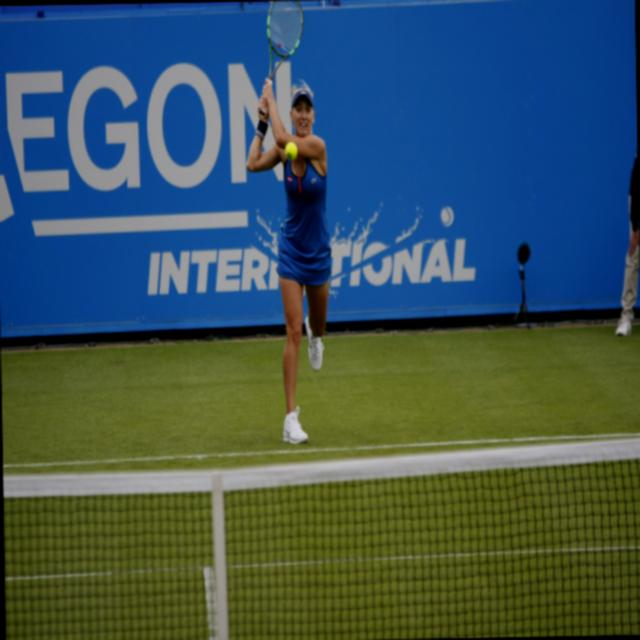Tennis ball: (286, 140, 298, 162), (285, 142, 297, 160)
